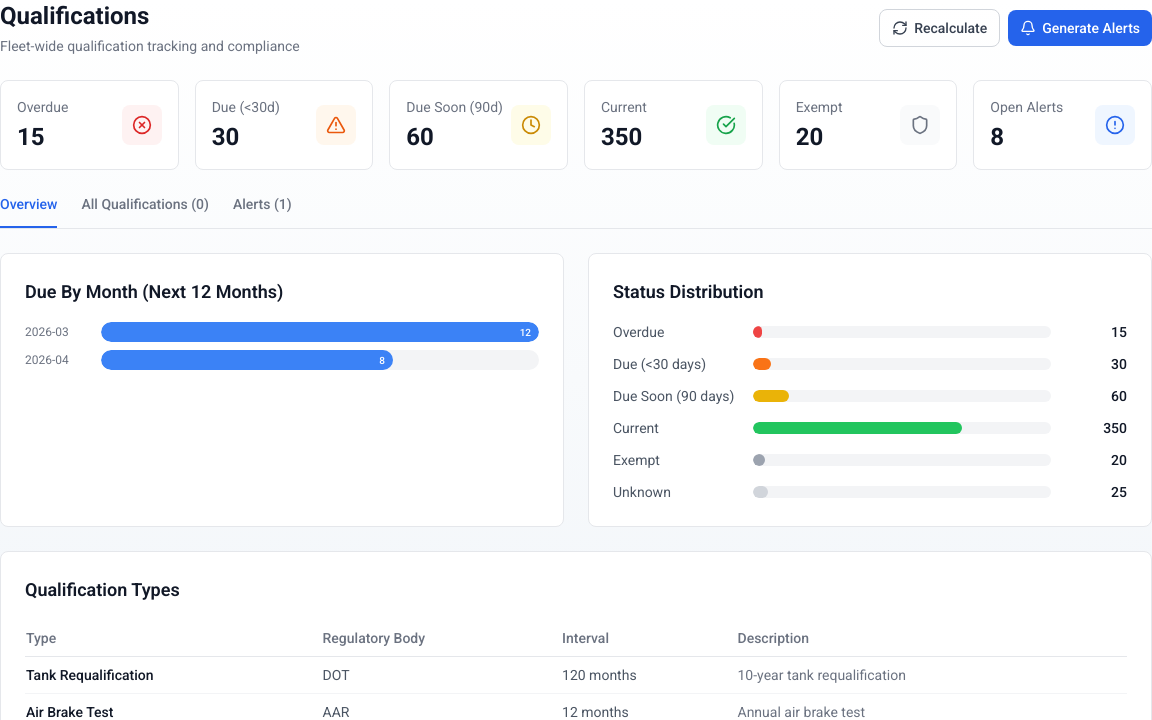
it: QualificationsPage › shows overdue badge for overdue alerts
Click the button "Alerts (1)" at (262,211), box [233, 194, 292, 228]
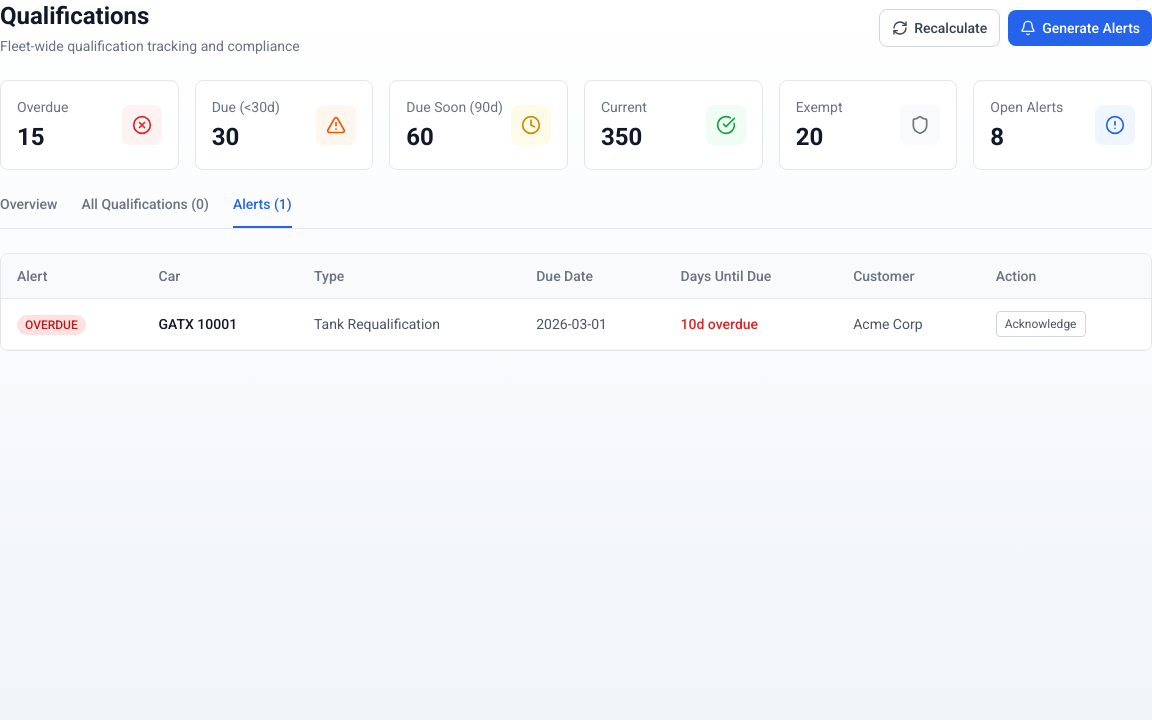
Result: the text "OVERDUE" is shown at [17, 314, 86, 334]
Result: the text "10d overdue" is shown at [681, 316, 758, 332]
